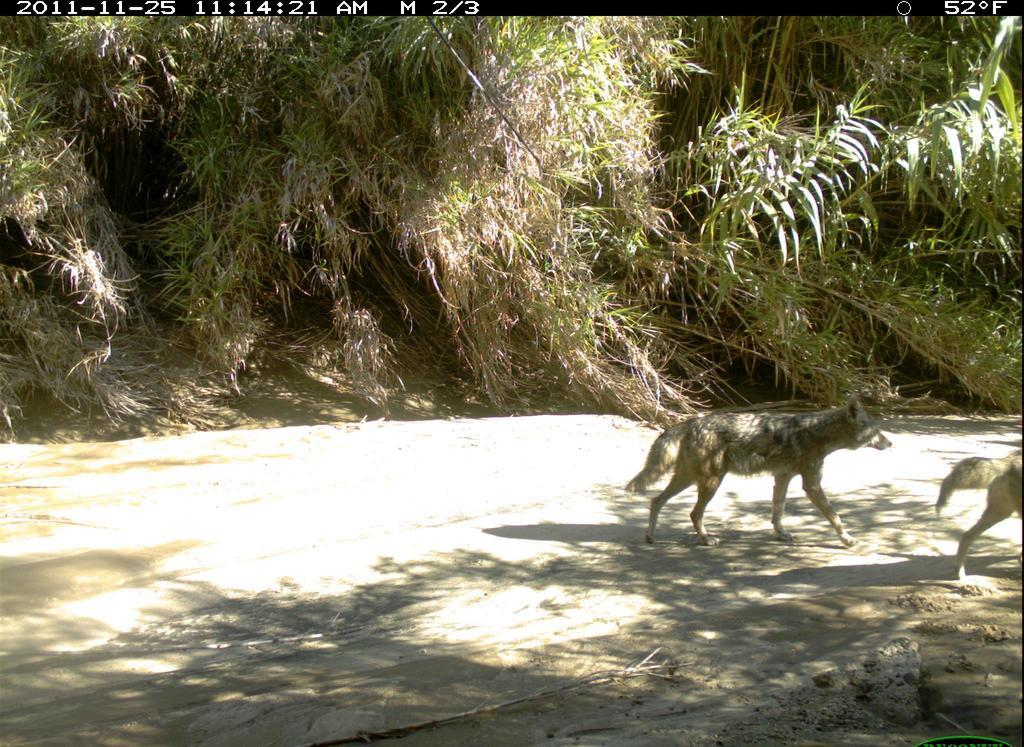coyote: (633, 373, 905, 571), (935, 422, 1023, 611)
